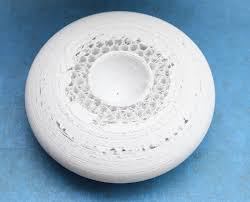fail: (66, 31, 178, 122), (53, 119, 200, 153)
